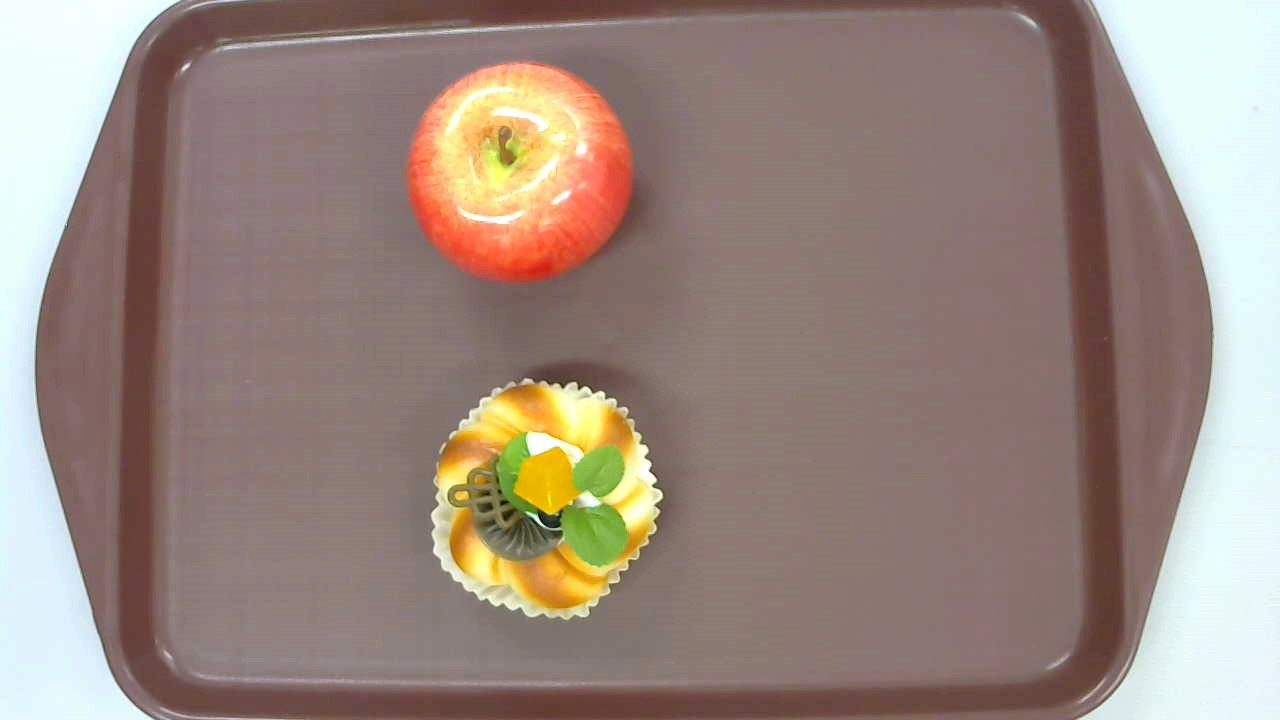fruit tart: (428, 377, 664, 618)
red apple: (406, 60, 634, 284)
